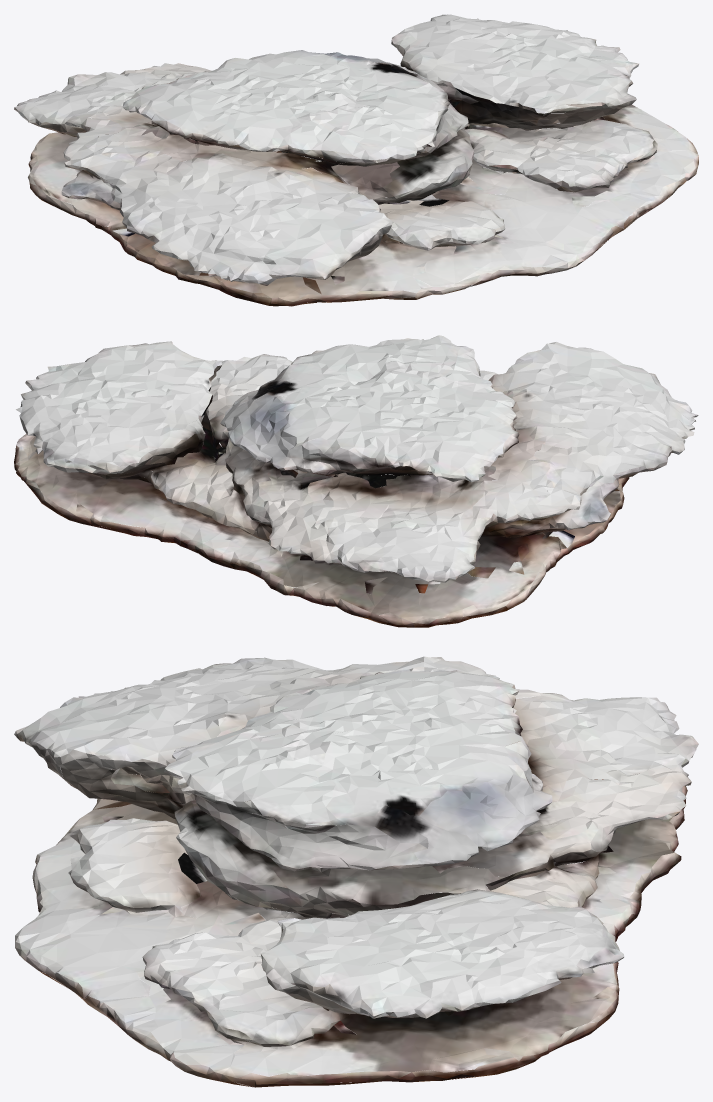
File: wt-outpost-snow-rocks.glb
3 renders of one model, top to bottom at view 1: azimuth 30°, elevation 25°; view 2: azimuth 150°, elevation 25°; view 3: azimuth 270°, elevation 25°, orthographic. The views are drawn at different scales.
Parts seen in each view (by area): view 1: tmpv8dtfp8t.ply; view 2: tmpv8dtfp8t.ply; view 3: tmpv8dtfp8t.ply.
Part boxes in pixels (box(x1,y1,x2,y2)): tmpv8dtfp8t.ply: box(14, 14, 698, 306); tmpv8dtfp8t.ply: box(14, 335, 698, 627); tmpv8dtfp8t.ply: box(14, 656, 698, 1087).
Size of the model in its own units: 4 by 0.7704 by 3.26.
Materials: 1 (1 with a texture image).
